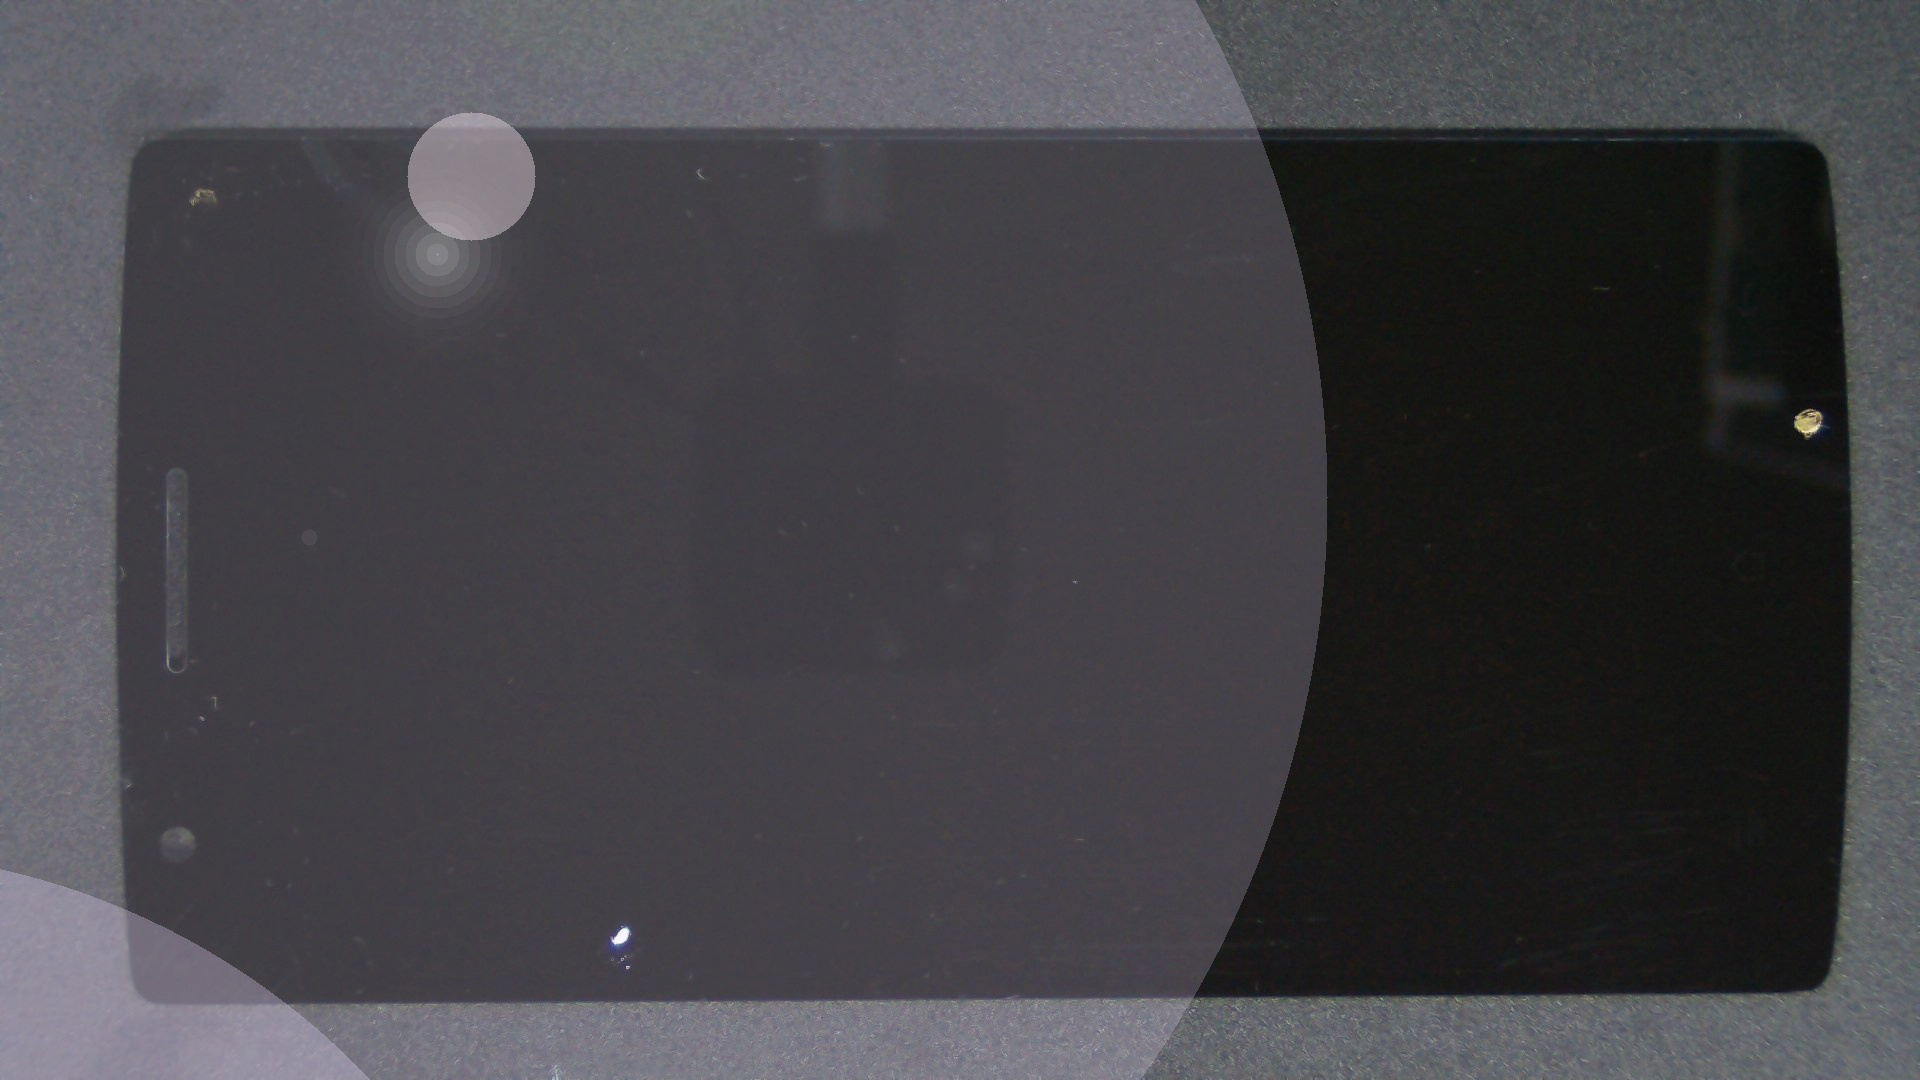oil: (906, 203, 1920, 611), (310, 462, 930, 1080), (313, 480, 938, 1080), (315, 473, 932, 1080)
